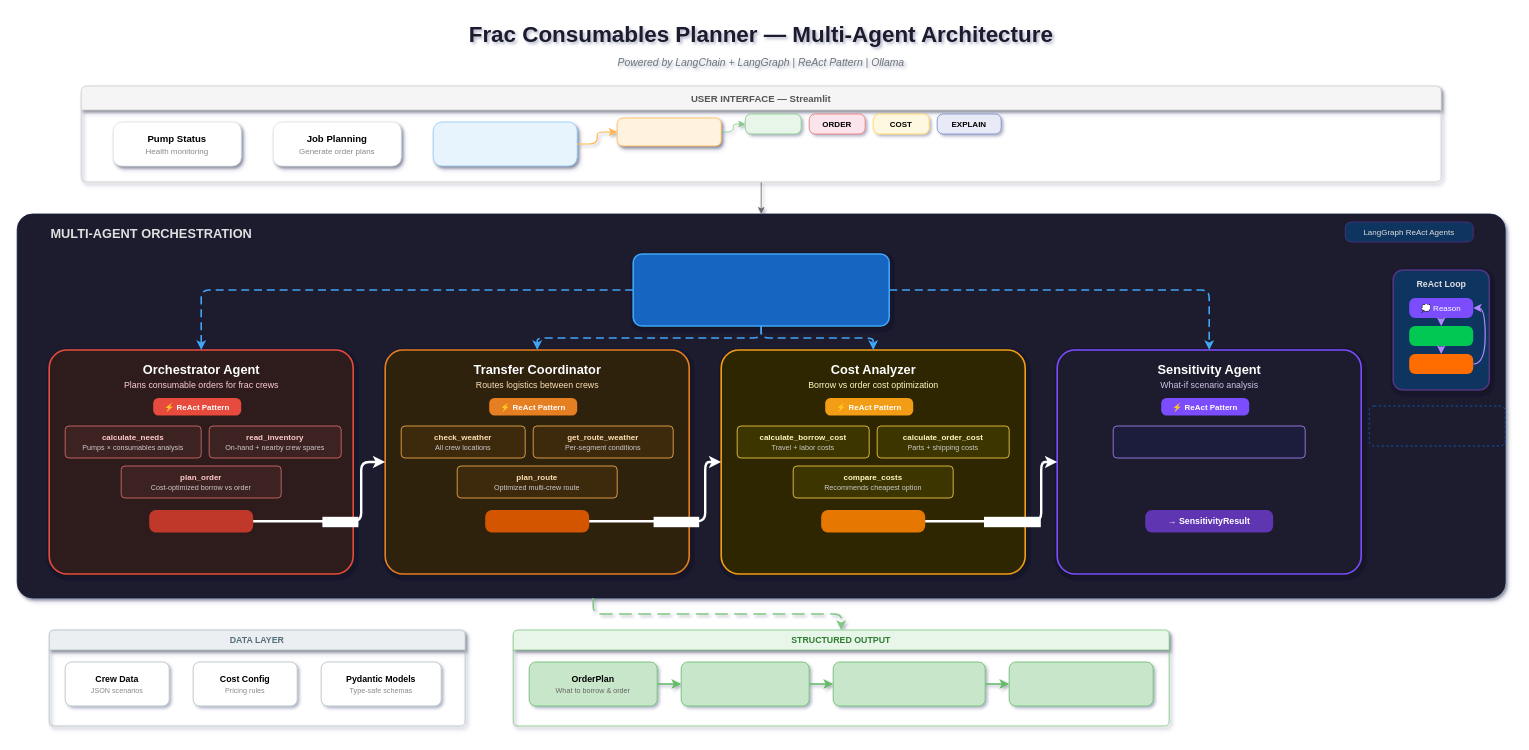
Some shapes in this 1529 by 750 pixel diagram are drawn without their labels. Each missing label, with the centre of its shape:
"Chatbot Assistant Intent-driven AI chat" belongs at (x=505, y=145).
"CostBreakdown Savings & recommendation" belongs at (x=908, y=683).
"Intent Router" belongs at (x=669, y=133).
"recalculate_sensitivity Weather / distance / price scenarios" belongs at (x=1208, y=441).
"SensitivityResult What-if cost deltas" belongs at (x=1080, y=683).
"STATUS" belongs at (x=772, y=123).
"TransferPlan Routes & timing" belongs at (x=744, y=683).
"→ CostBreakdown" belongs at (x=873, y=521).
"→ OrderPlan" belongs at (x=201, y=521).
"→ TransferPlan" belongs at (x=537, y=521).
"🌦 Weather Multipliers Clear 1.0× → Storm 2.0× Adjusts travel costs" belongs at (x=1436, y=425).
"👁 Observe" belongs at (x=1441, y=364).
"🔧 Act" belongs at (x=1441, y=336).
"🧠 LLM Backbone Ollama Local inference" belongs at (x=761, y=291).
